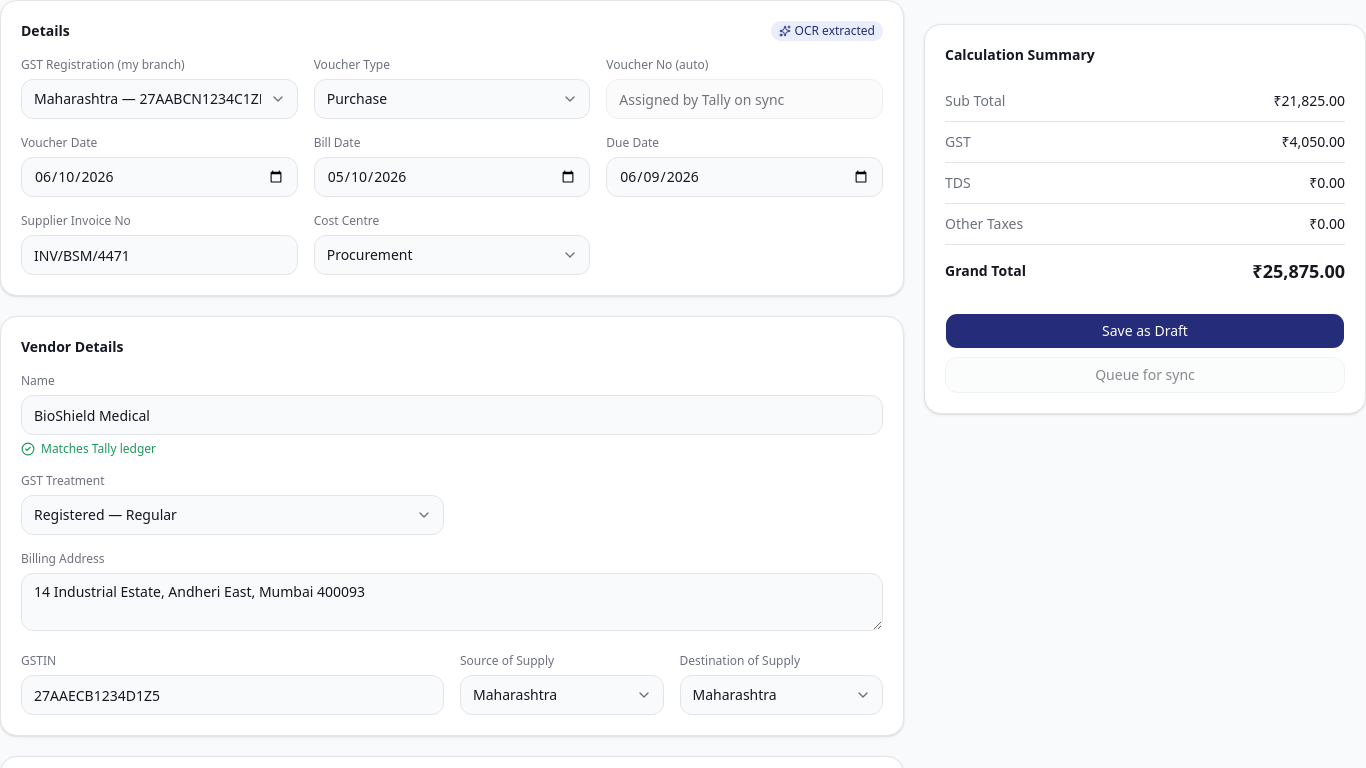
Test: CreateBillForm › saves a draft and shows the Queue for sync button once validated clean
Click the button "Save as Draft" at point(1145, 331), box [945, 313, 1345, 349]
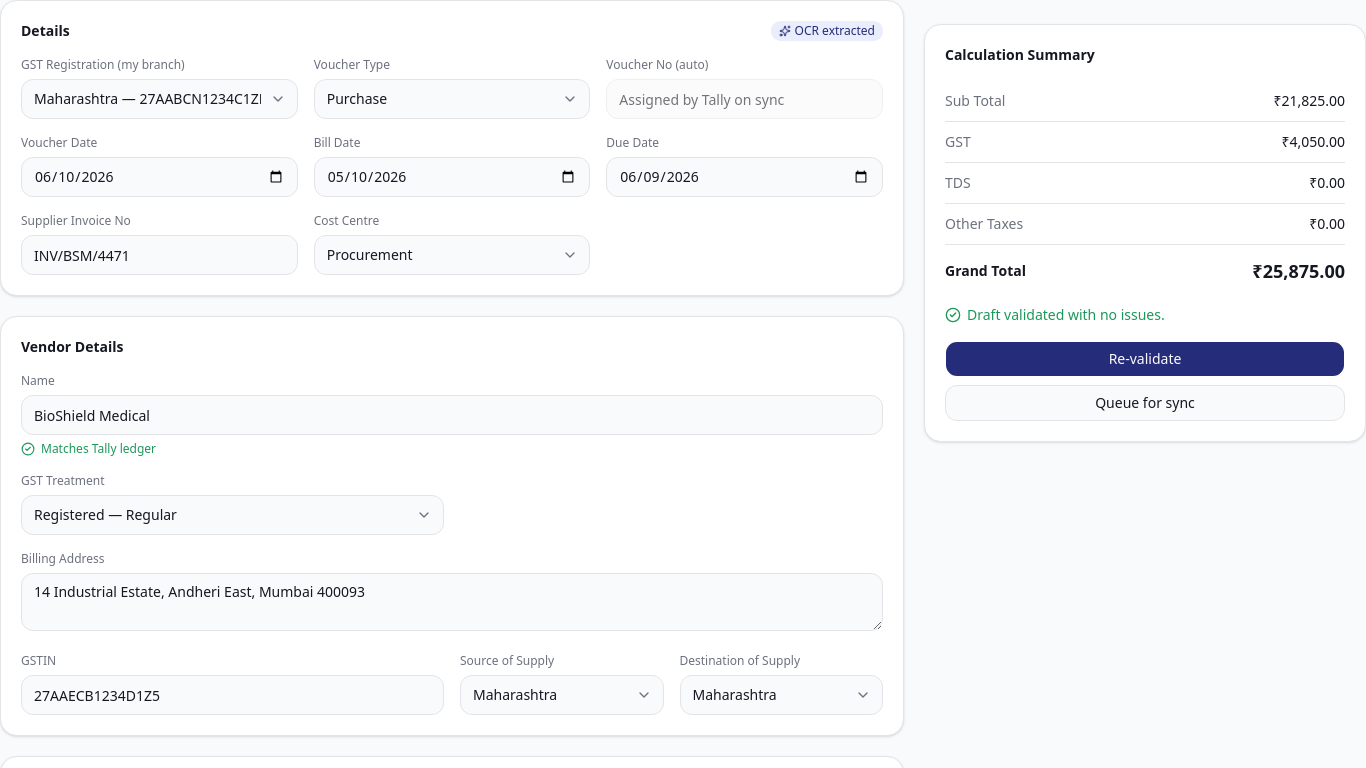
expect the text "Draft validated with no issues." is shown: met, box [945, 305, 1165, 324]
Click the button "Queue for sync" at point(1145, 403), box [945, 385, 1345, 421]
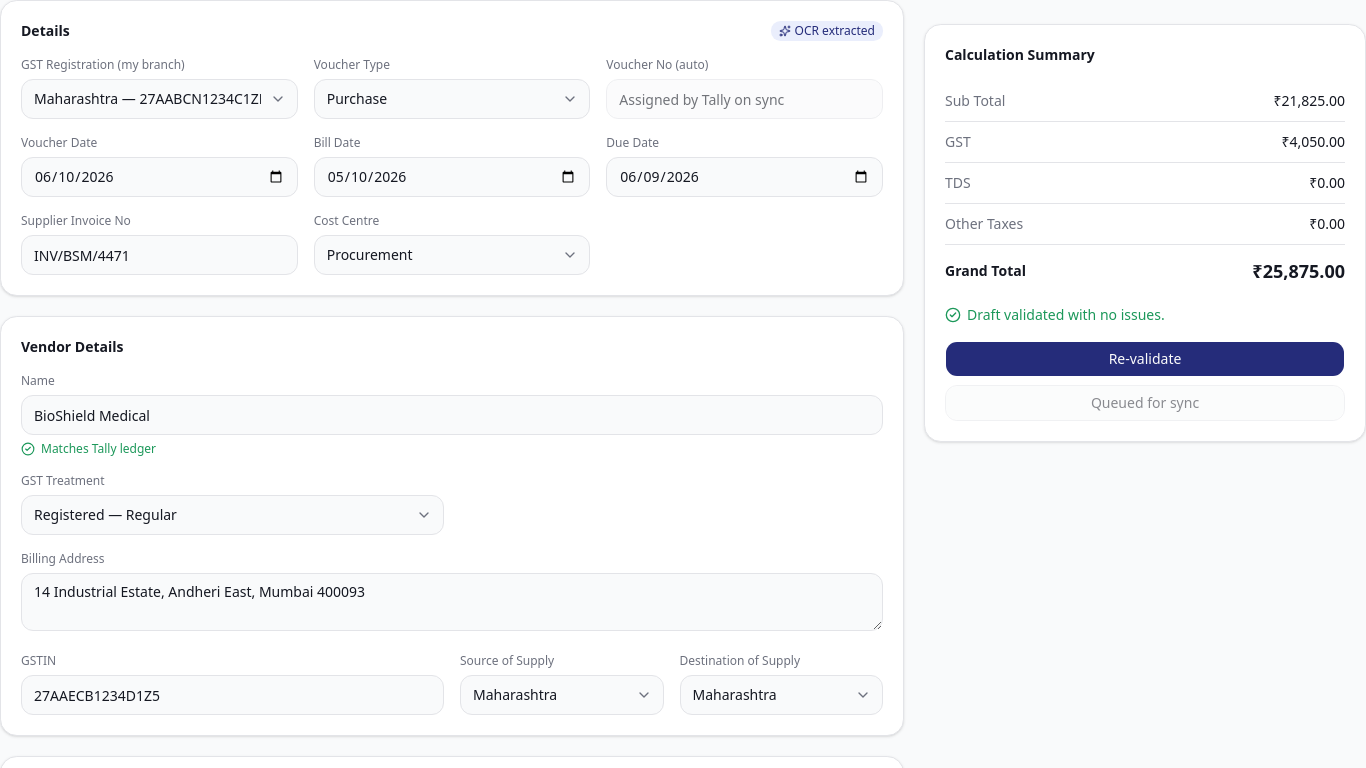
expect the button "Queued for sync" is shown: met, box [945, 385, 1345, 421]
